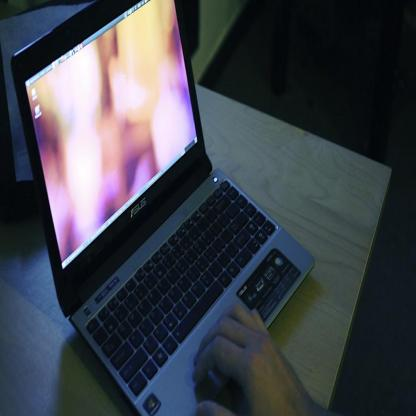board: (12, 0, 314, 415)
